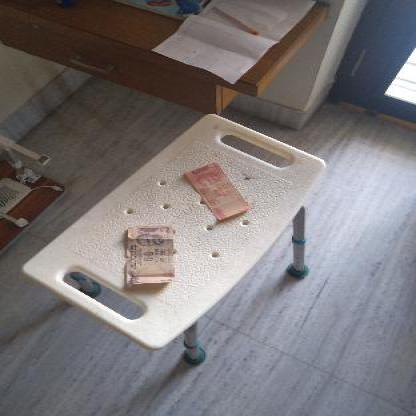Old20Front: (187, 160, 249, 222)
Old50Front: (128, 226, 175, 283)
